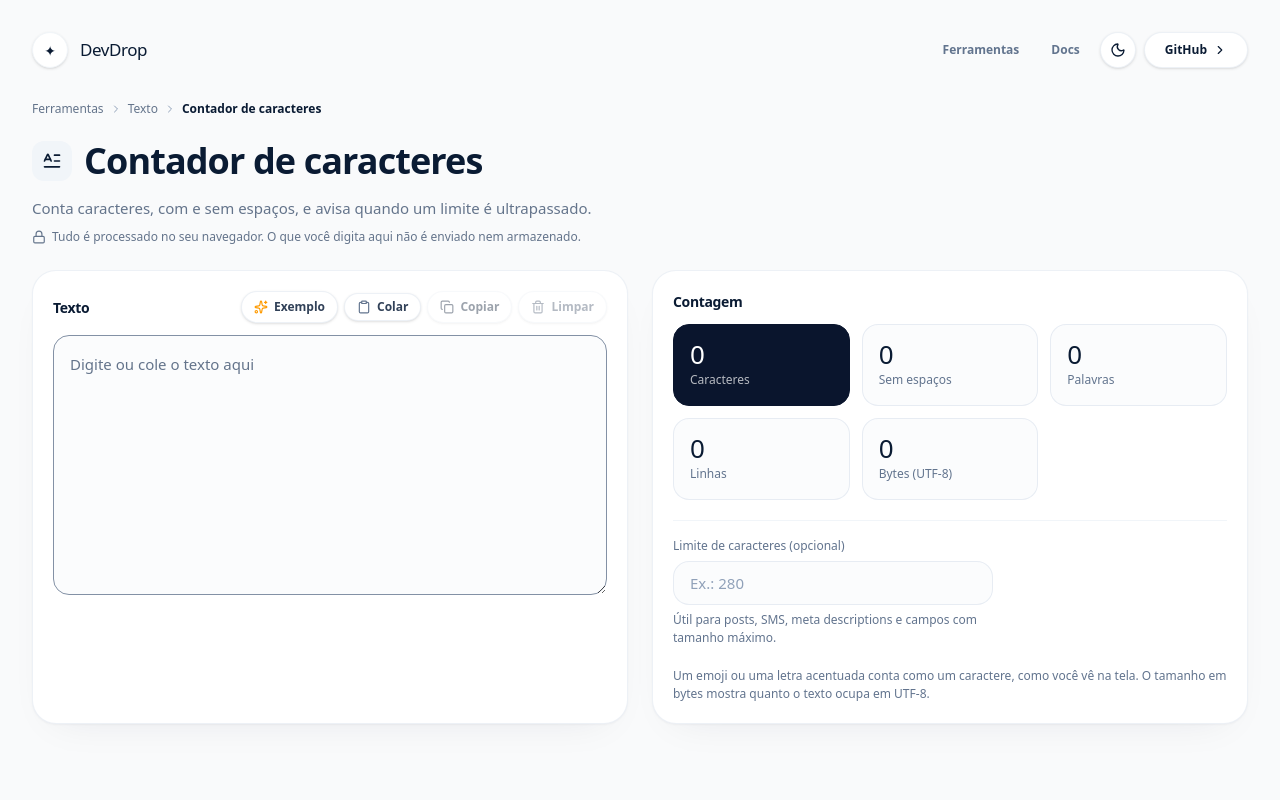
Scenario: text tools › counts characters (emoji as one) and warns about a limit
The image size is (1280, 800).
Click the text box with id "character-counter-input" at (330, 465), box [53,335,607,595]
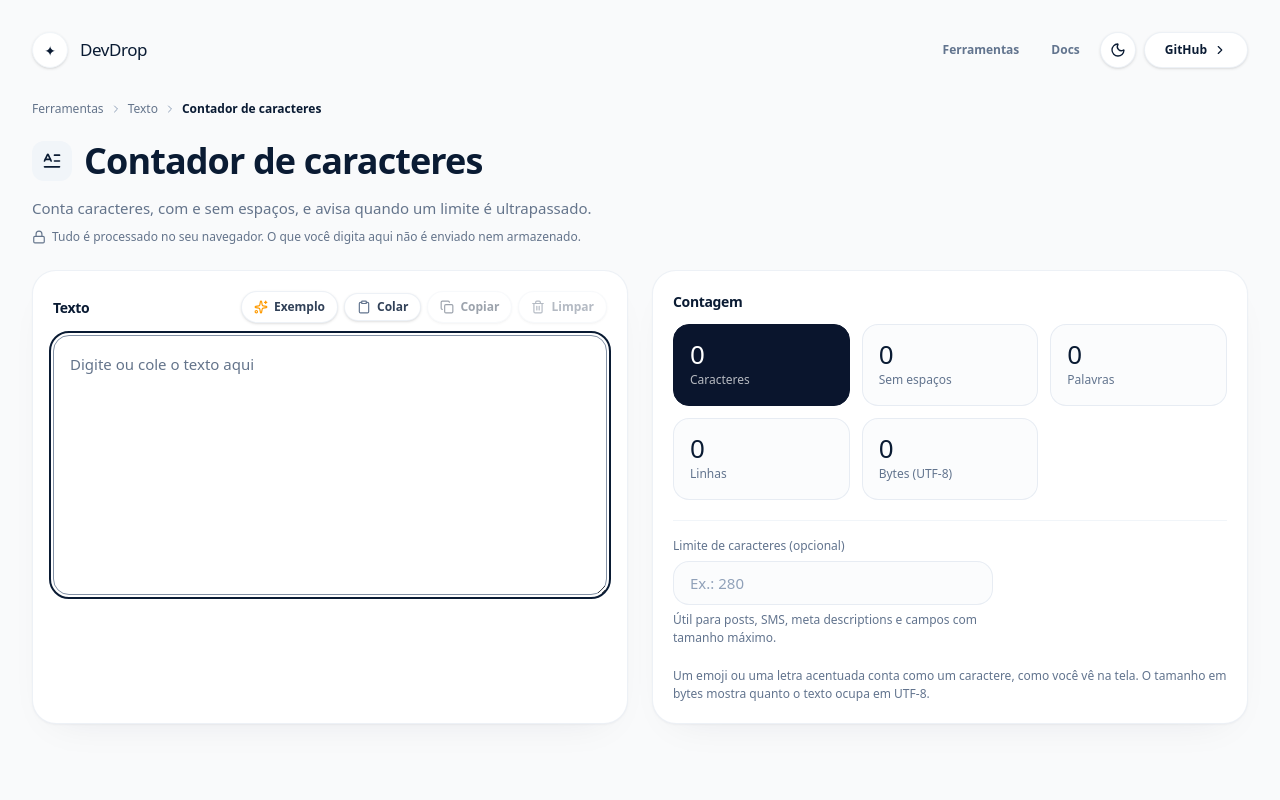
Type keys "Olá 🚀"
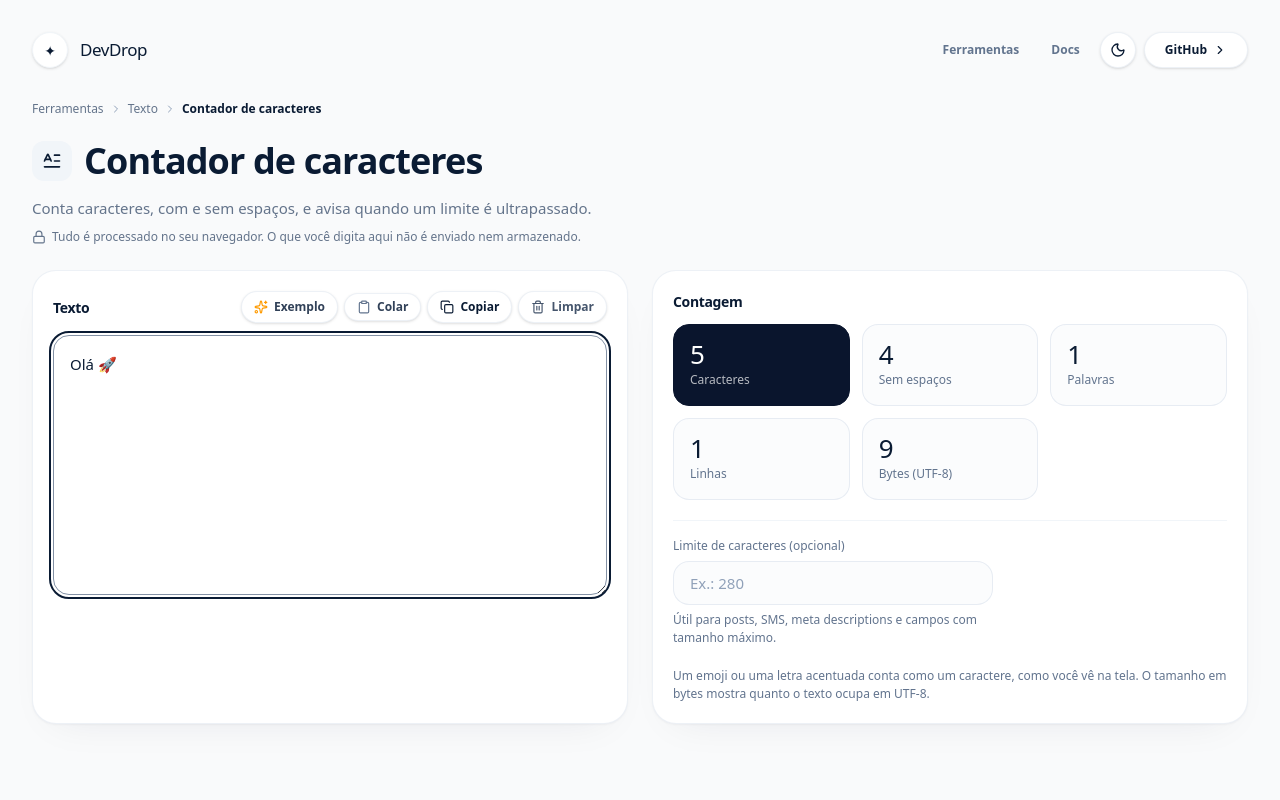
Check: the text "5" is shown, box [690,336,704,372]
Type "3" into the field labelled "Limite de caracteres (opcional)" at (833, 583), box [673,561,993,605]
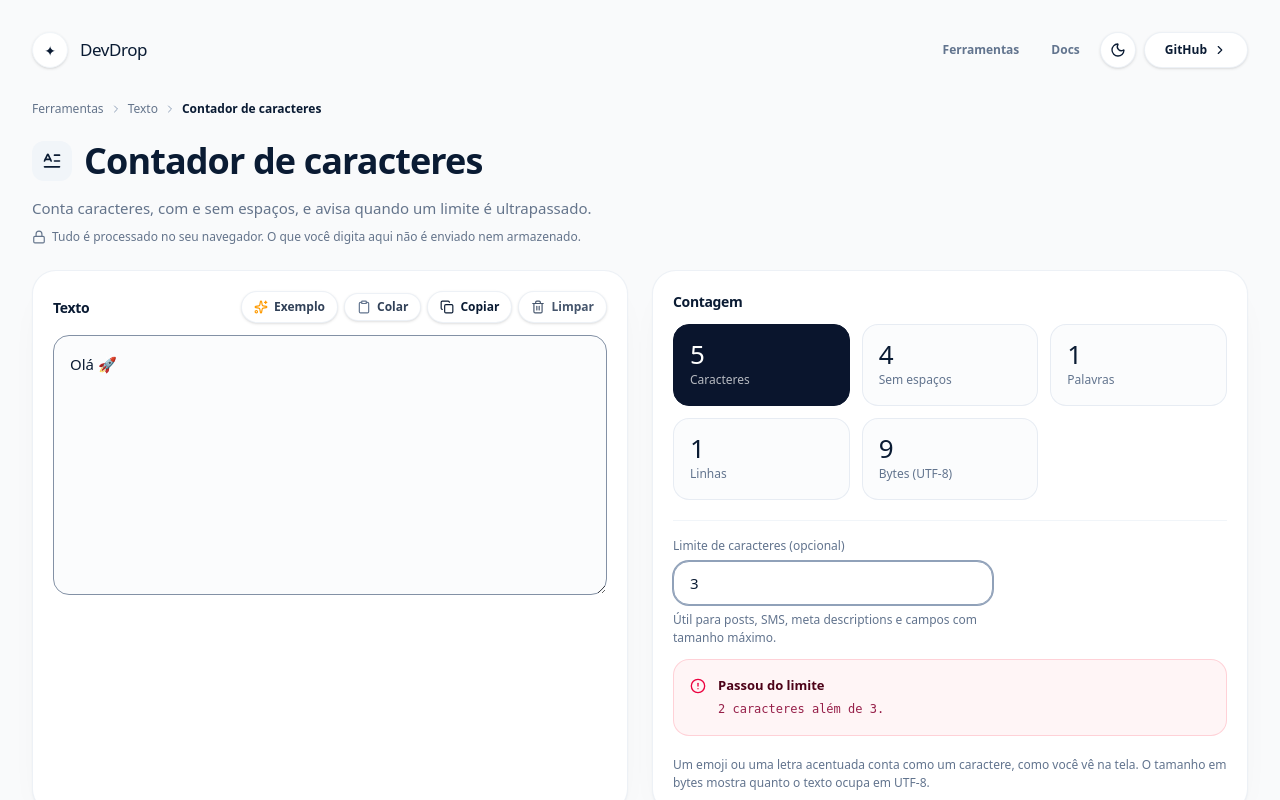
Click the button "Limpar" at (563, 307), box [518,291,607,323]
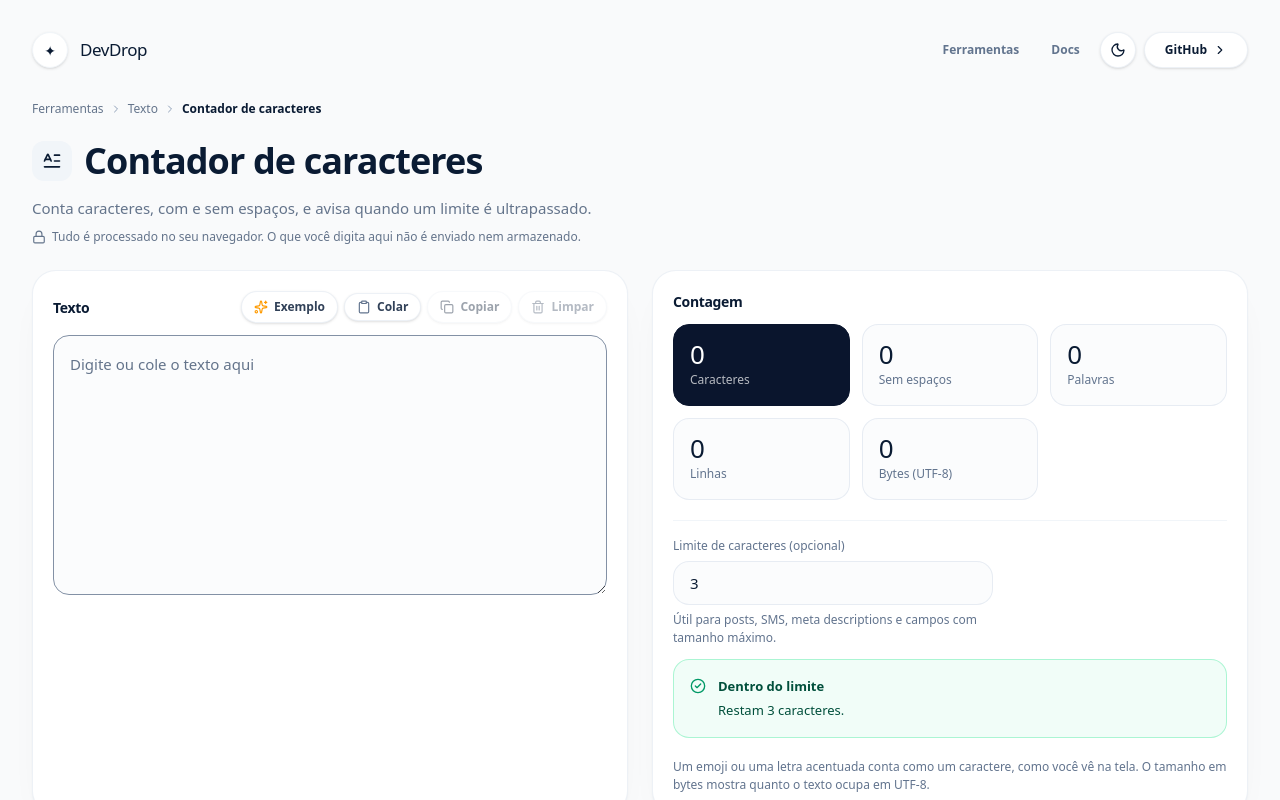
Check: the text box with id "character-counter-input" is empty, box [53,335,607,595]
